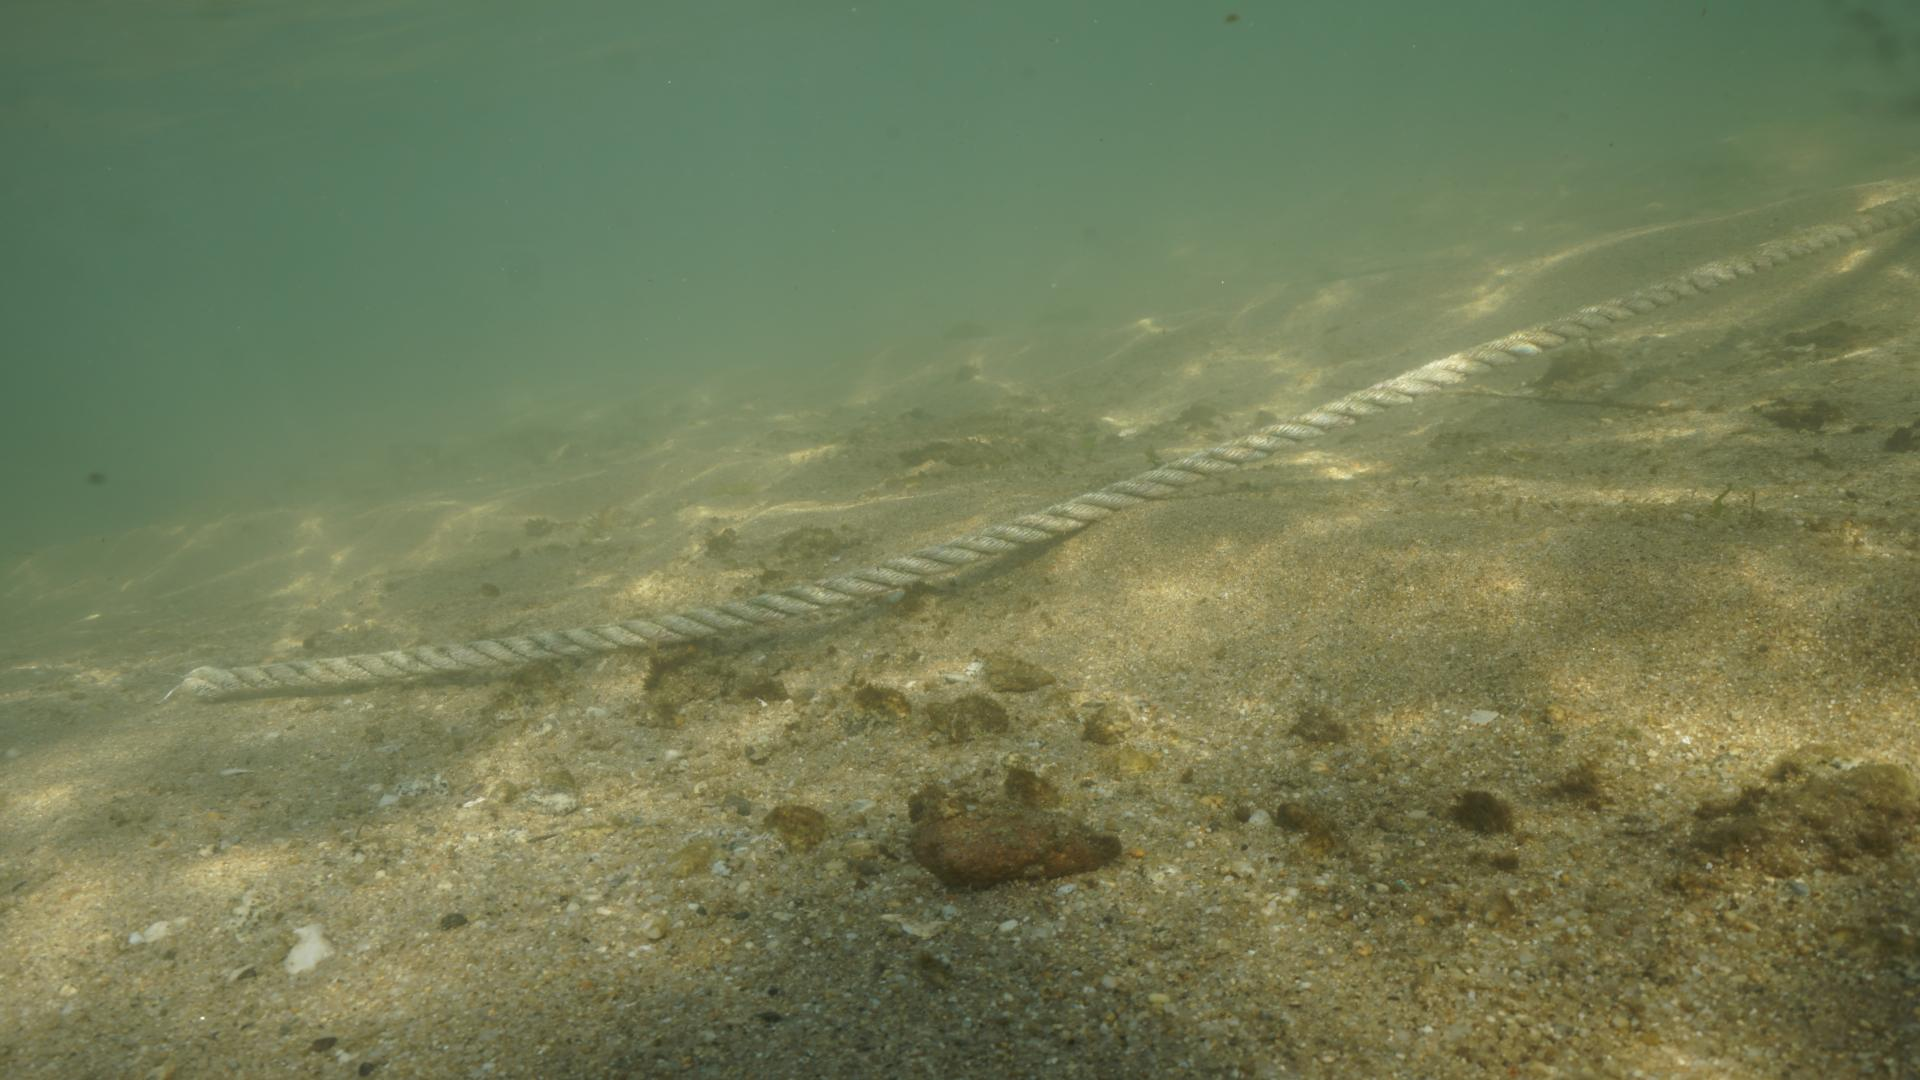rope: (177, 185, 1920, 702)
